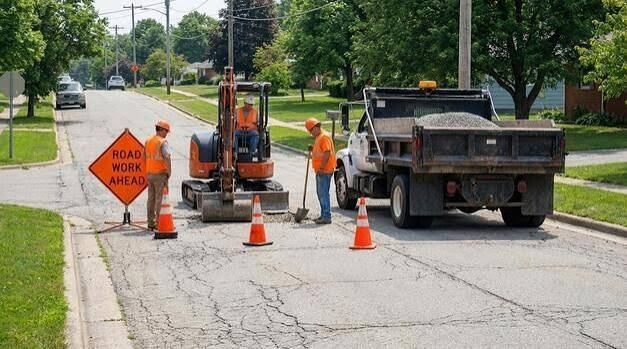hardhat: (303, 117, 324, 135), (154, 121, 174, 132), (242, 96, 257, 107)
machinery: (182, 61, 291, 232)
person: (298, 111, 346, 231), (134, 117, 180, 229), (233, 95, 271, 165)
safety_cone: (348, 198, 379, 257), (244, 192, 274, 251), (152, 185, 183, 240)
safety_vest: (138, 130, 171, 186), (307, 135, 339, 175), (237, 103, 263, 135)
truck: (323, 74, 604, 241)
